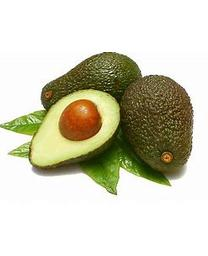avocado: (28, 88, 123, 171), (119, 73, 195, 174), (40, 51, 143, 119)
